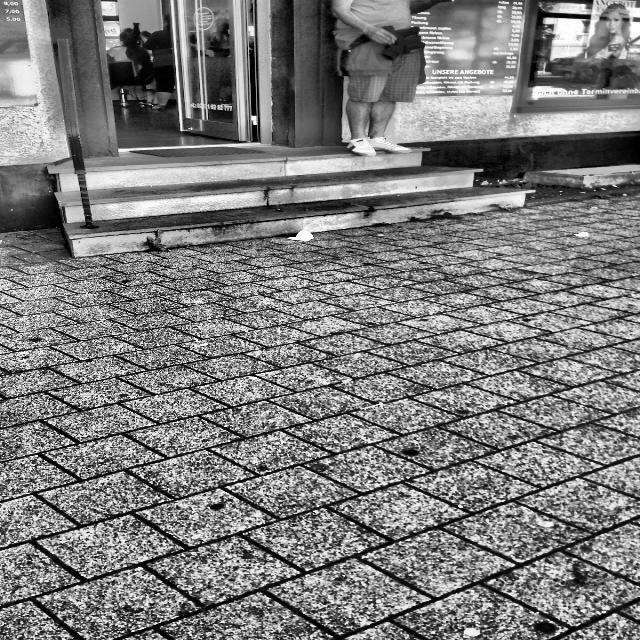escada: (47, 157, 531, 257)
